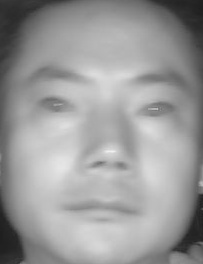eye: (30, 92, 76, 116), (138, 97, 178, 122)
mouth: (64, 189, 140, 230)
